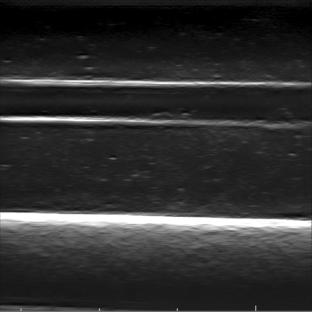vessel: (3, 78, 308, 128)
